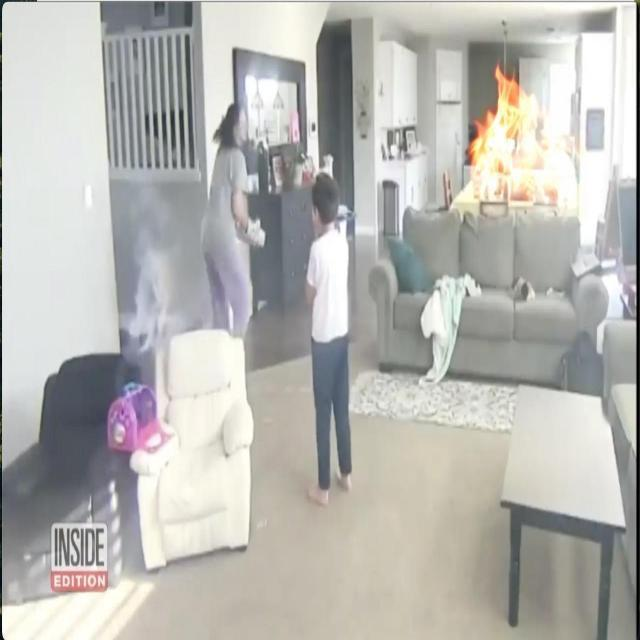fire: (127, 187, 207, 362)
smoke: (472, 64, 576, 209)
